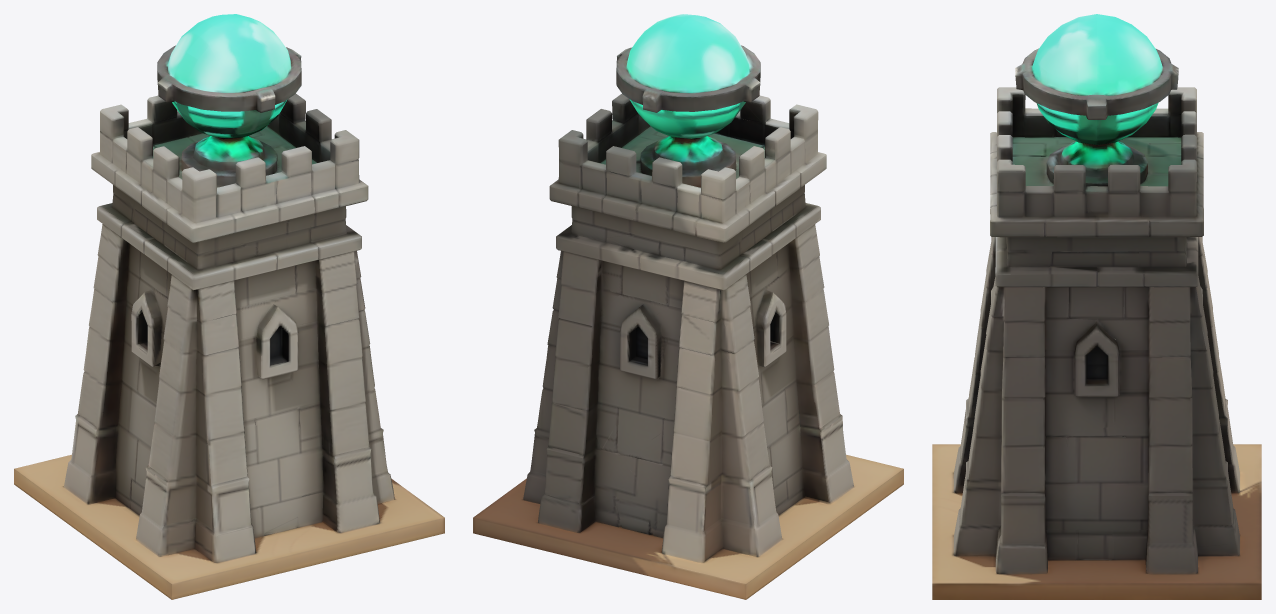
Rendered from base_basic_shaded.fbx.
The picture shows the model from 3 angles, left to right: view 1: azimuth 30°, elevation 25°; view 2: azimuth 150°, elevation 25°; view 3: azimuth 270°, elevation 25°; orthographic projection. The views are drawn at different scales.
Parts seen in each view (by area): view 1: model; view 2: model; view 3: model.
Part boxes in pixels (x1,y1,x2,y2): model: [14, 14, 444, 599]; model: [473, 14, 903, 599]; model: [932, 14, 1261, 599].
Size of the model in its own units: 17.5 by 30 by 17.52.
